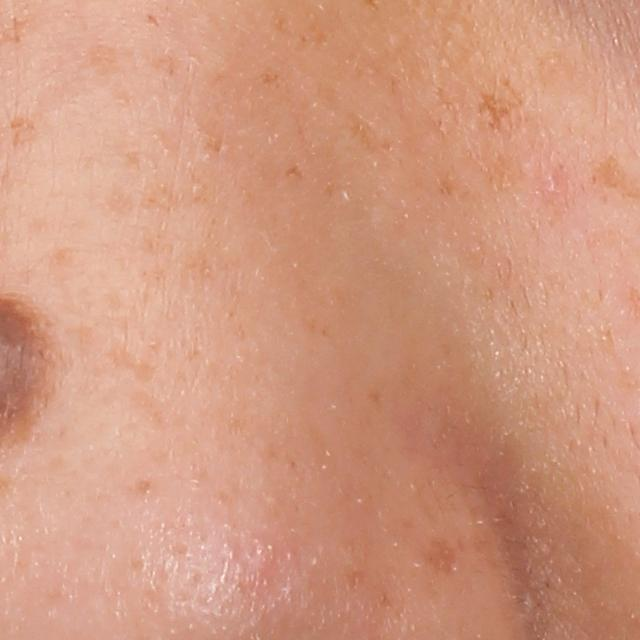melasma: (316, 79, 415, 164), (471, 72, 530, 131), (83, 42, 139, 86), (420, 537, 460, 577), (10, 113, 41, 148), (254, 68, 283, 87), (272, 8, 291, 36), (284, 163, 303, 179), (147, 13, 163, 29)
